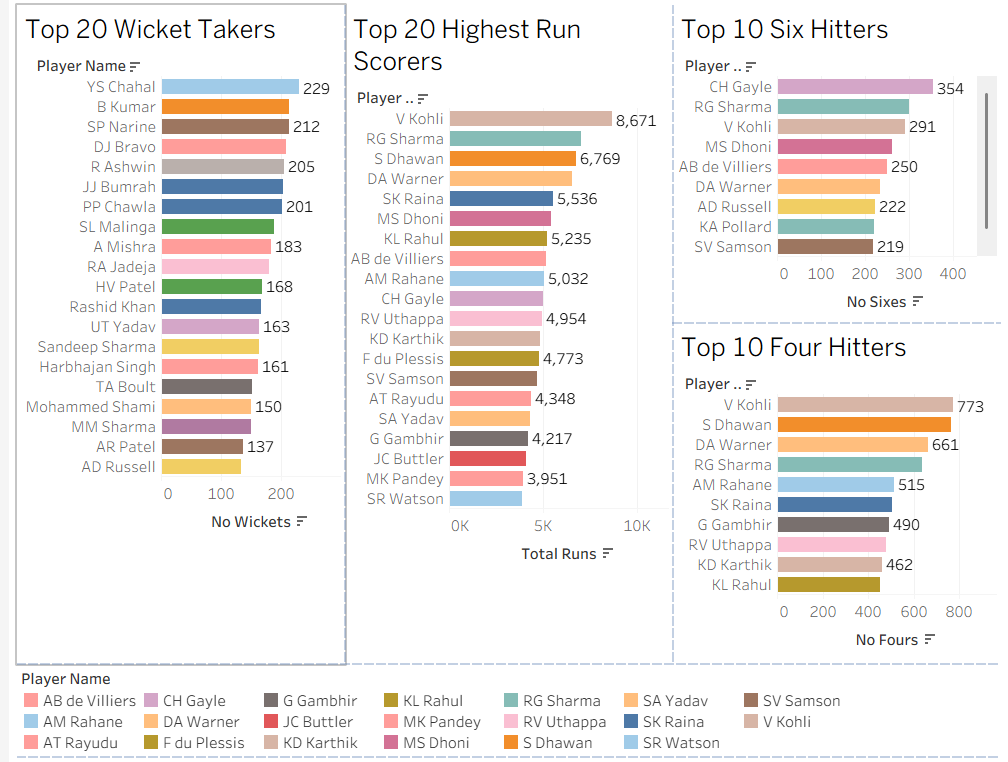

The page's visual inventory and layout, read from the dashboard file:
{"tool":"tableau","page":{"name":"Dashboard 1","canvas":[1000,800],"ordinal":0},"visuals":[{"type":"worksheet","title":"Sheet 2","mark":"Automatic","rows":["player_name"],"cols":["no_wickets"],"box":[8,8,328,659]},{"type":"worksheet","title":"Sheet 1","mark":"Automatic","rows":["player_name"],"cols":["total_runs"],"box":[336,8,328,659]},{"type":"worksheet","title":"Sheet 3","mark":"Automatic","rows":["player_name"],"cols":["no_sixes"],"box":[664,8,328,318]},{"type":"worksheet","title":"Sheet 4","mark":"Automatic","rows":["player_name"],"cols":["no_fours"],"box":[664,326,328,341]},{"type":"legend","title":"Sheet 1","param":"[federated.13riogk1wq8wiw1600gqm08bnt3m].[none:player_name:nk]","box":[8,667,984,93]},{"type":"legend","title":"Sheet 2","param":"[federated.13riogk1wq8wiw1600gqm08bnt3m].[none:bowler_id (fact_bowling):ok]","box":[8,760,984,32]}]}

Visuals, with their boxes on the page's 1000x800 design canvas (x1, y1, x2, y2). These are canvas units, not pixel positions in the 1008x762 screenshot, which may show the page scaled, cropped or inside an application window:
"Sheet 2" worksheet: detection(8, 8, 336, 667)
"Sheet 1" worksheet: detection(336, 8, 664, 667)
"Sheet 3" worksheet: detection(664, 8, 992, 326)
"Sheet 4" worksheet: detection(664, 326, 992, 667)
"Sheet 1" legend: detection(8, 667, 992, 760)
"Sheet 2" legend: detection(8, 760, 992, 792)
